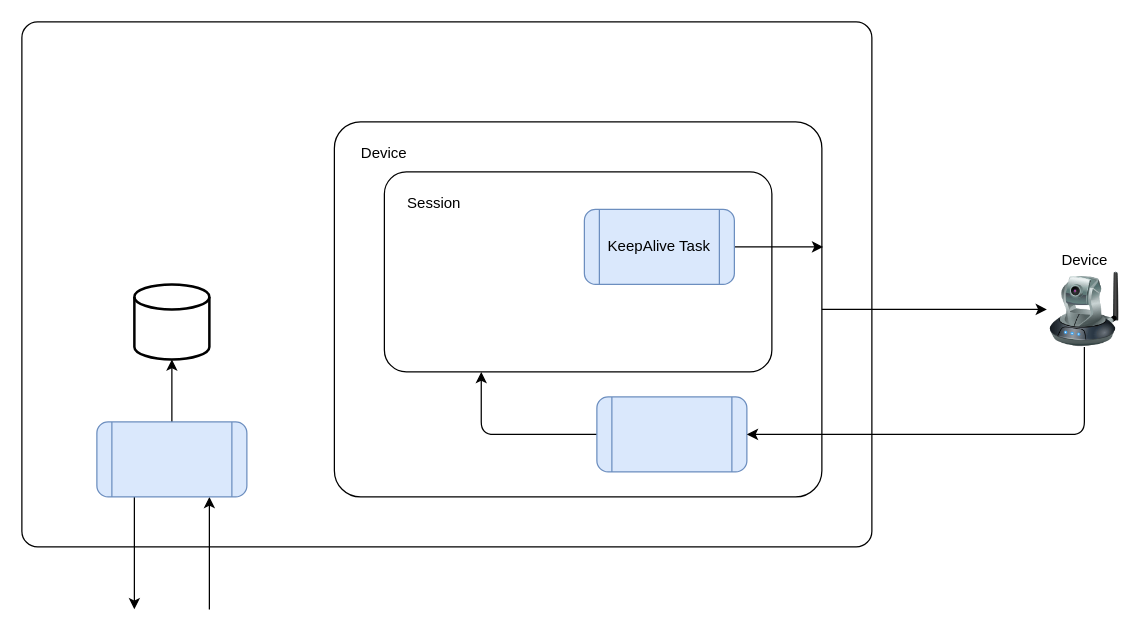
Image size: 1144x641. Some labels were removed from this diagram. Here are the shapes that lost their labels. From the top down, the centre of each, then its label:
At (x=671, y=434): "Receiver Task".
At (x=171, y=459): "Discovery Task".
